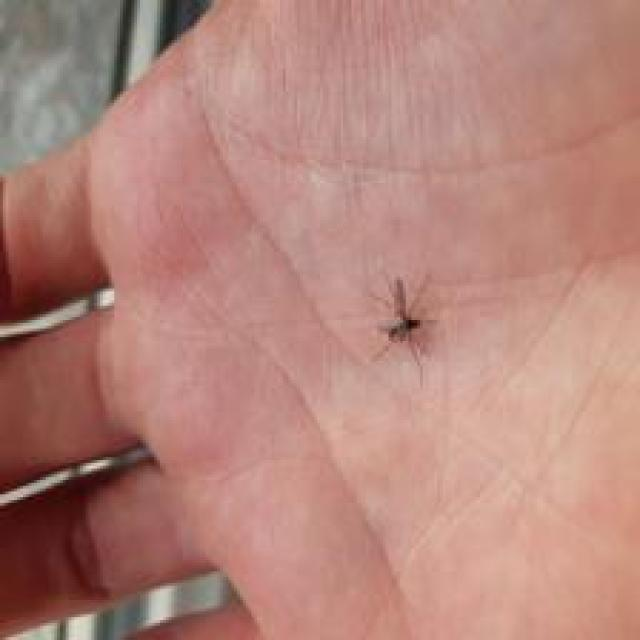Aedes albopictus: (374, 274, 434, 346)
